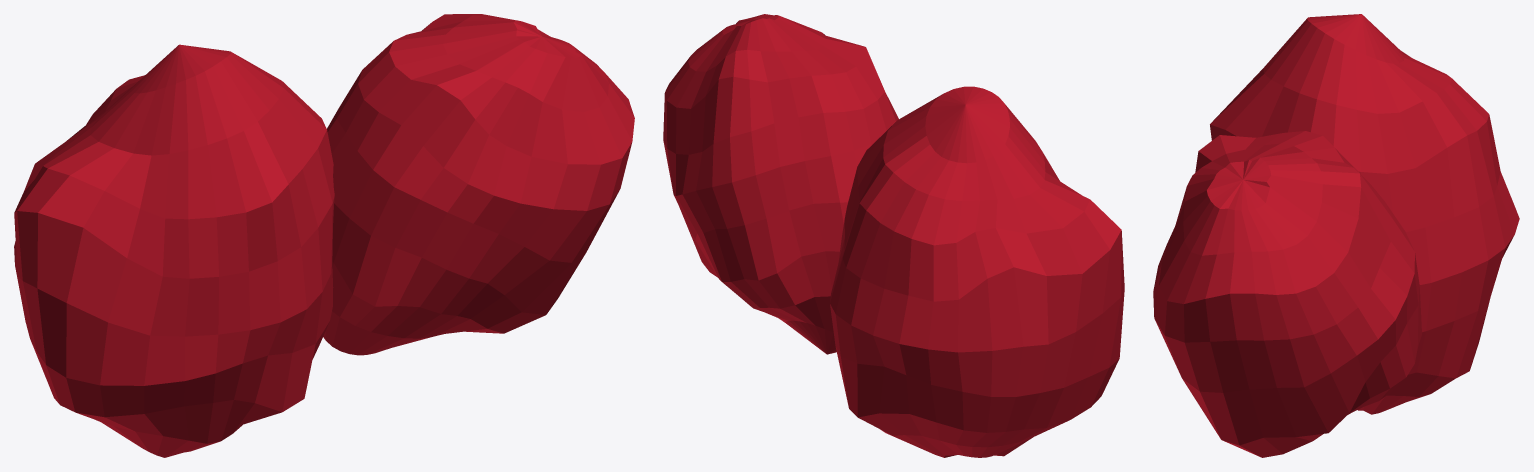
Rendered from tree-dead-leaves-12-042.glb.
3 renders of one model, left to right at view 1: azimuth 30°, elevation 25°; view 2: azimuth 150°, elevation 25°; view 3: azimuth 270°, elevation 25°, orthographic. The views are drawn at different scales.
Parts seen in each view (by area): view 1: TREE 12.007_501; view 2: TREE 12.007_501; view 3: TREE 12.007_501.
Boxes of the visible parts, x1,y1,x2,y2 form: TREE 12.007_501: [14, 14, 634, 457]; TREE 12.007_501: [663, 14, 1124, 457]; TREE 12.007_501: [1153, 14, 1519, 457].
Bounding box in the file's own units: 1.4 × 0.9692 × 0.828.
